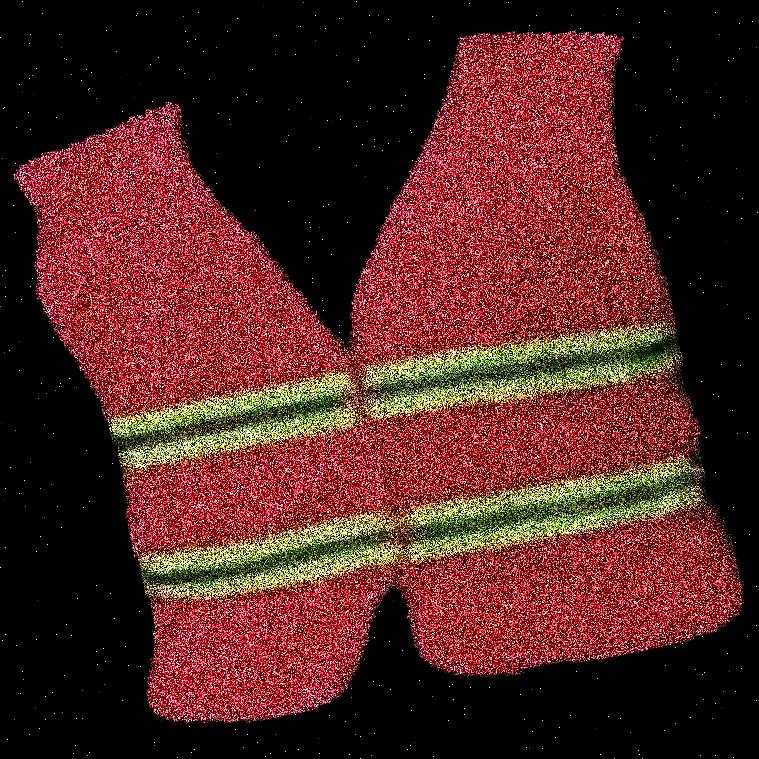Colete: (186, 0, 655, 758)
